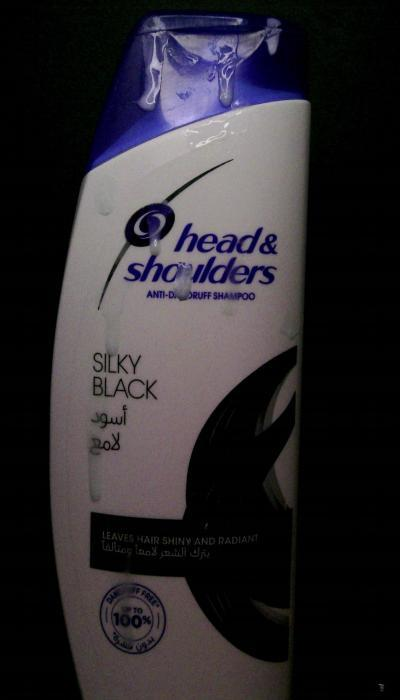pob_unacc: (136, 10, 170, 115), (187, 102, 250, 156), (167, 34, 218, 100), (206, 35, 245, 112), (113, 565, 137, 653), (96, 298, 127, 356), (256, 9, 288, 62), (140, 214, 167, 271), (84, 430, 104, 504), (168, 260, 197, 304), (87, 183, 118, 222), (276, 296, 302, 342), (220, 270, 246, 314)
